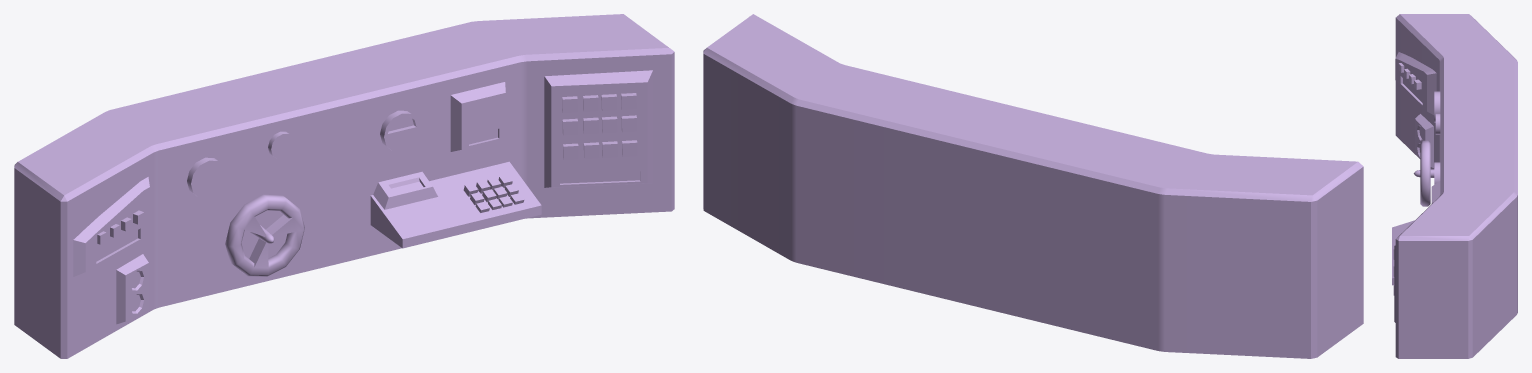
File: Painel.fbx
The picture shows the model from 3 angles, left to right: view 1: azimuth 30°, elevation 25°; view 2: azimuth 150°, elevation 25°; view 3: azimuth 270°, elevation 25°; orthographic projection. The views are drawn at different scales.
Visible parts, largest first — view 1: Painel1; view 2: Painel1; view 3: Painel1.
Part boxes in pixels (x1,y1,x2,y2): Painel1: (14,14,674,358); Painel1: (703,14,1363,358); Painel1: (1392,14,1517,358).
Bounding box in the file's own units: 69.8 × 17.55 × 16.49.
